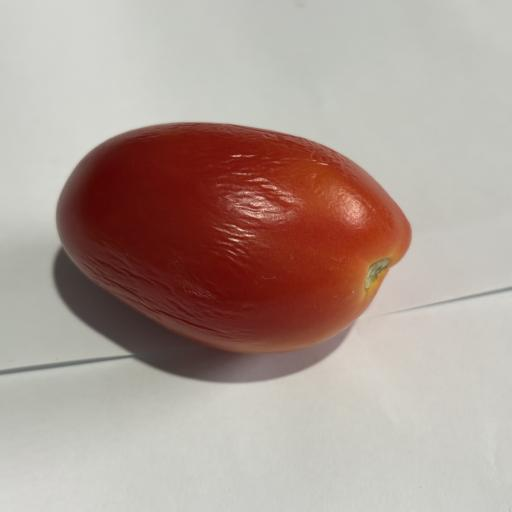spoiled: (57, 123, 411, 353)
